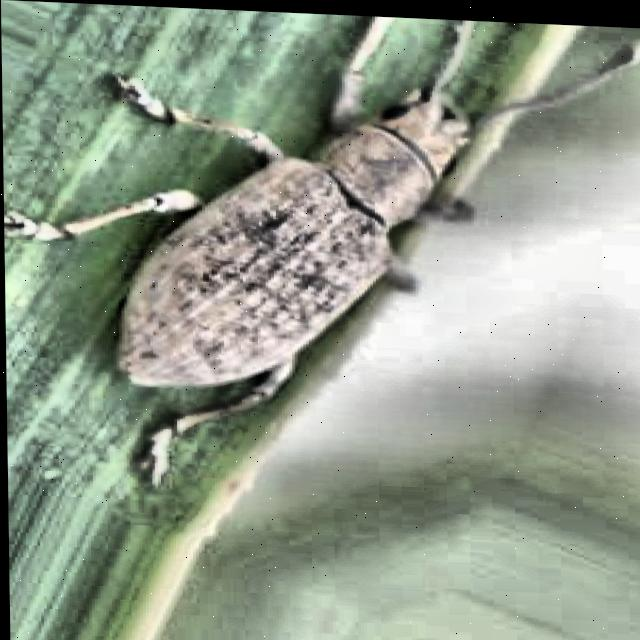Stink bug: (24, 50, 608, 419)
